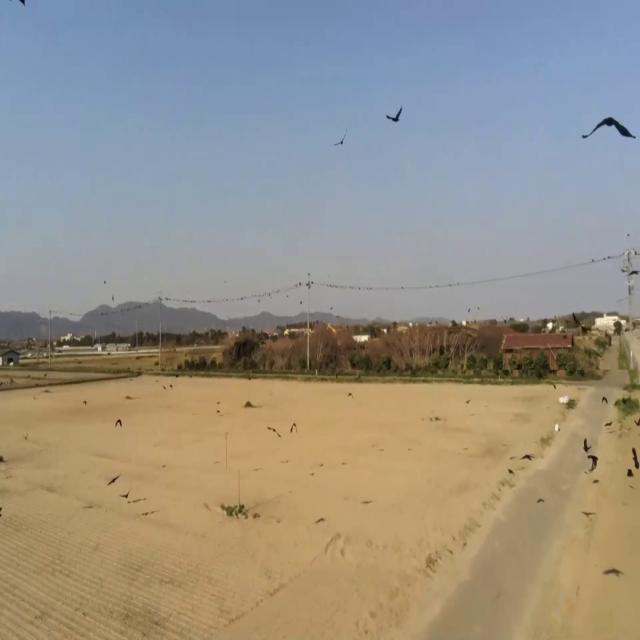bird: (585, 104, 633, 156), (385, 102, 403, 130), (630, 440, 640, 476), (334, 128, 346, 153), (583, 430, 591, 458), (115, 414, 123, 434), (307, 272, 312, 288), (20, 0, 24, 10)
